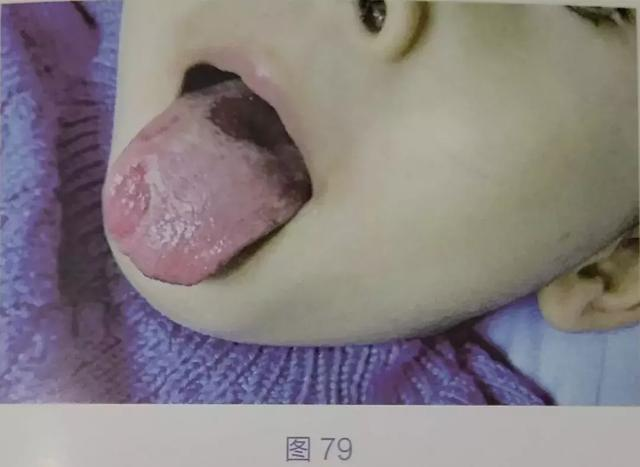baitaishe: (102, 79, 313, 286)
botaishe: (205, 85, 293, 161), (102, 153, 156, 244)
